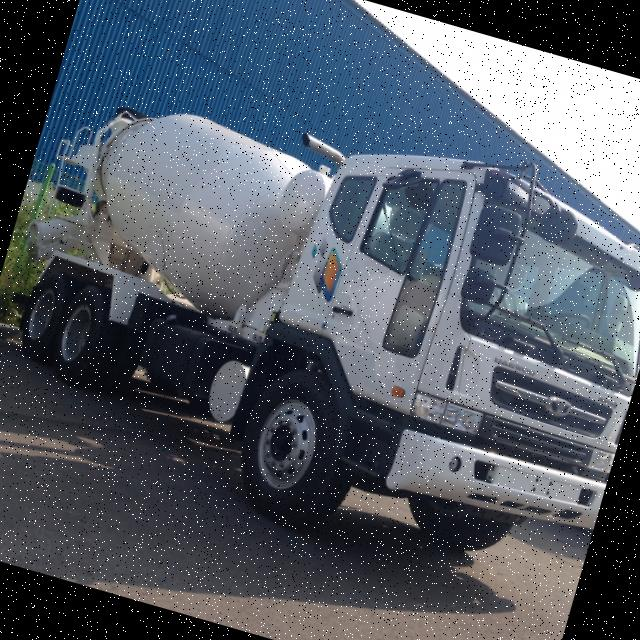Mixer Truck: (0, 47, 640, 604)
